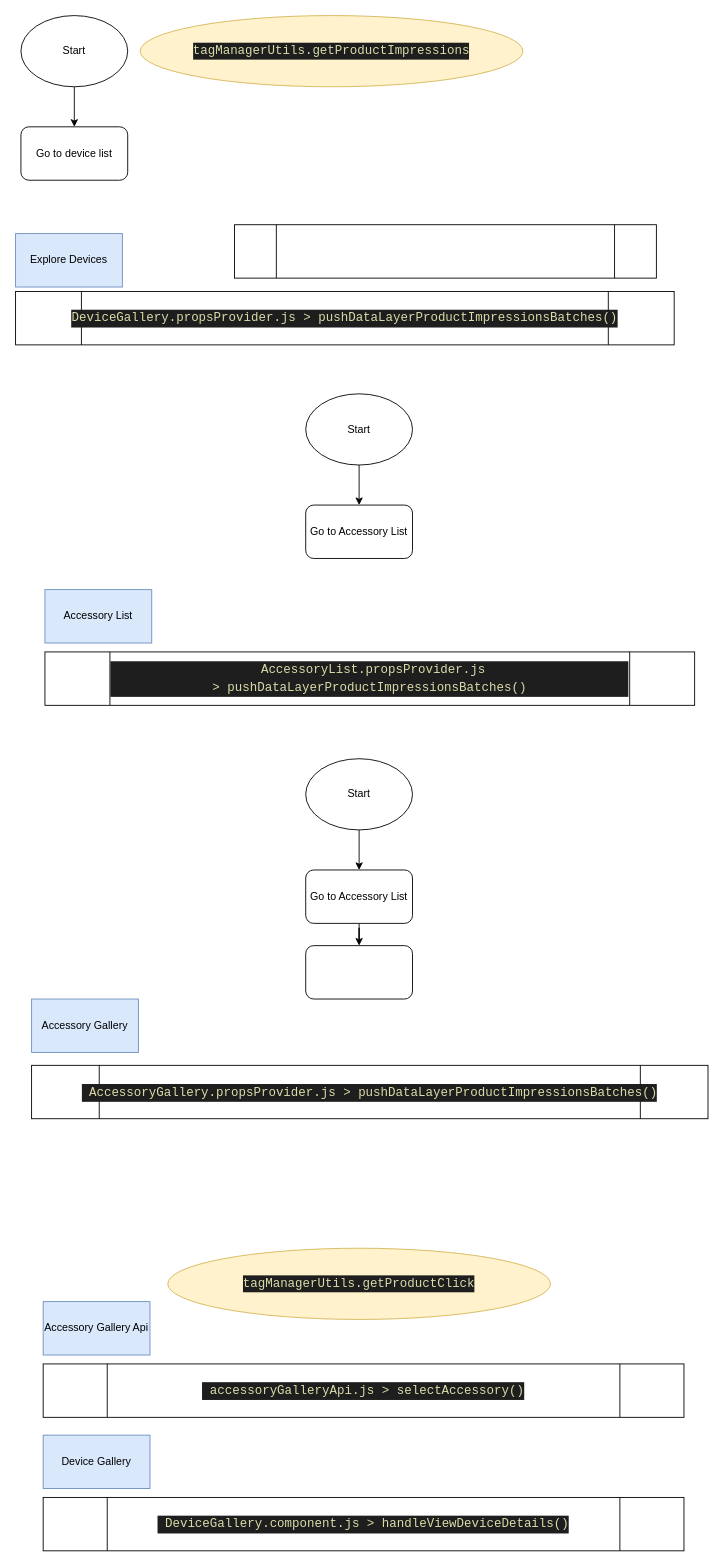
This 724x1566 diagram has some shape labels left out. The centre of each missing label's shape, as x and y in pixels:
"DeviceDetails.component.js > loadDeviceDetails()" belongs at [445,251].
"Shop All Accessories" belongs at [359,972].
